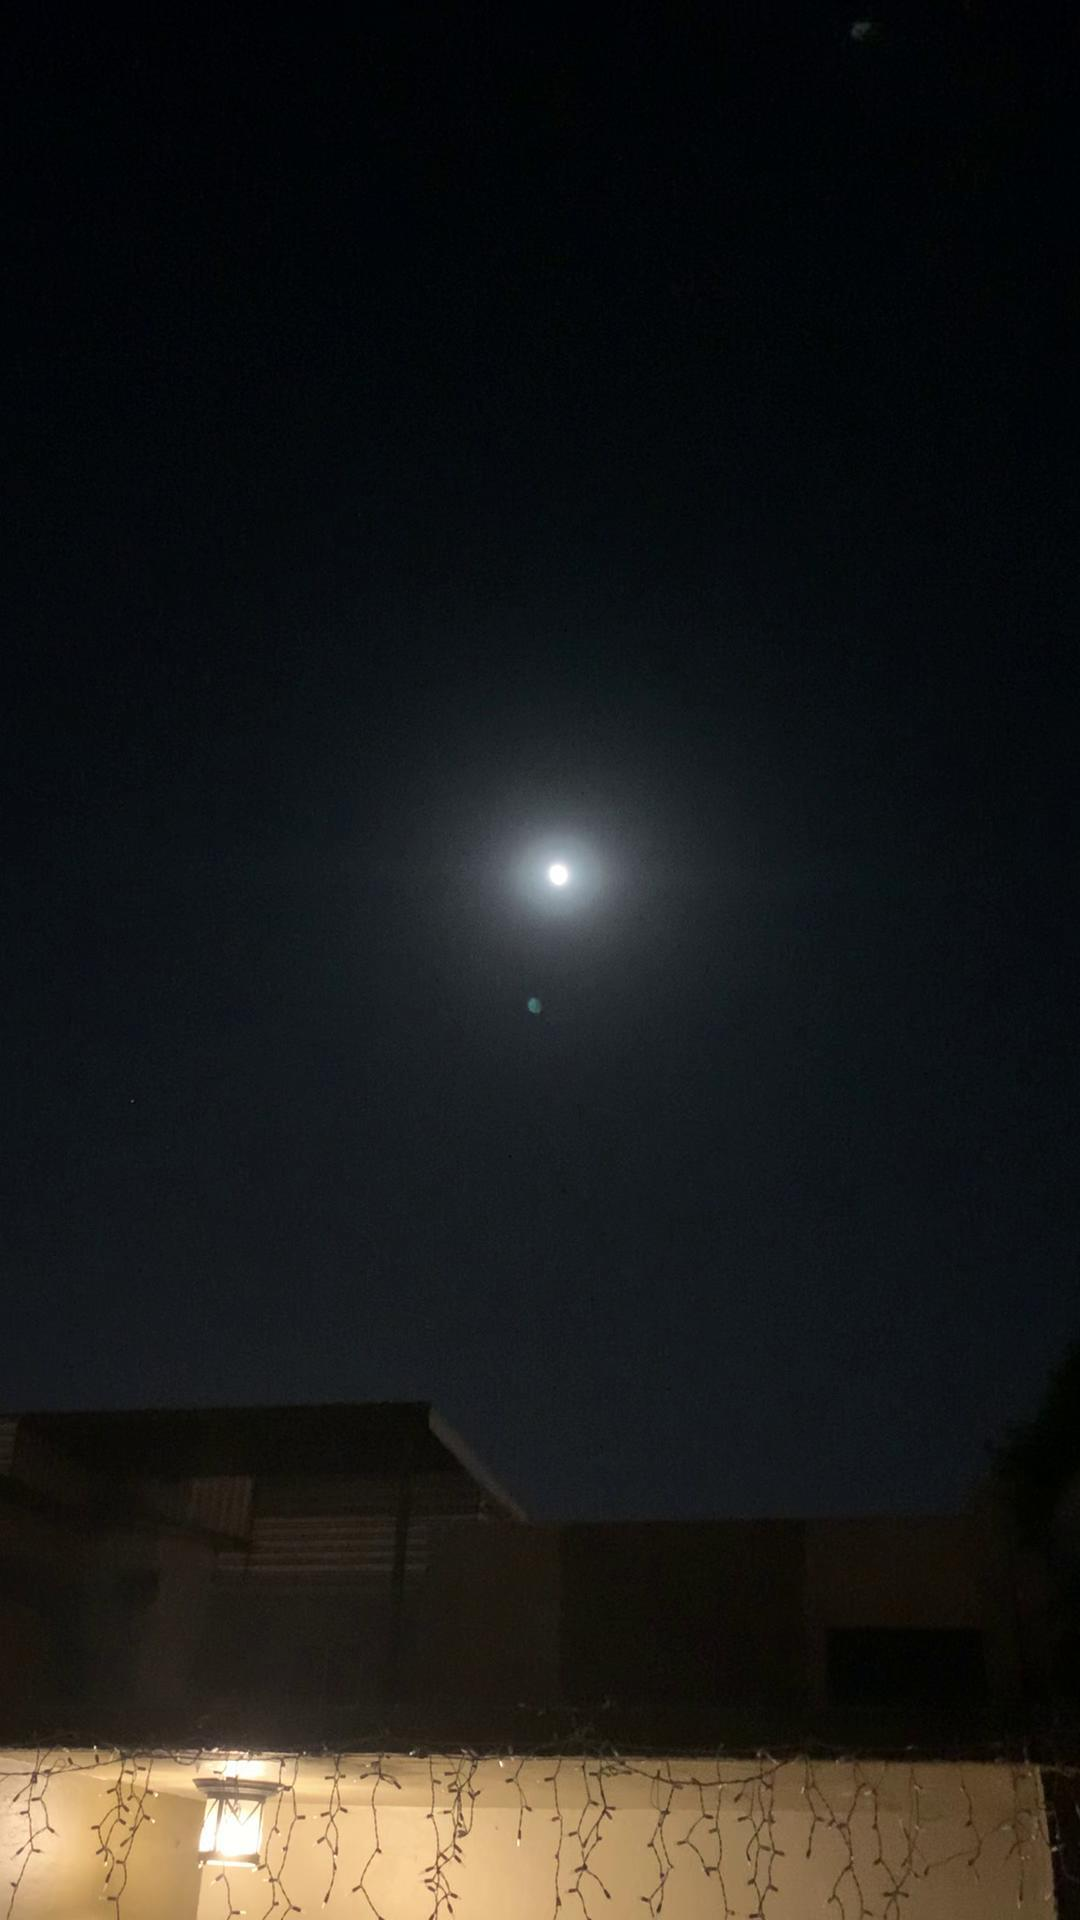moon: (516, 822, 603, 918)
